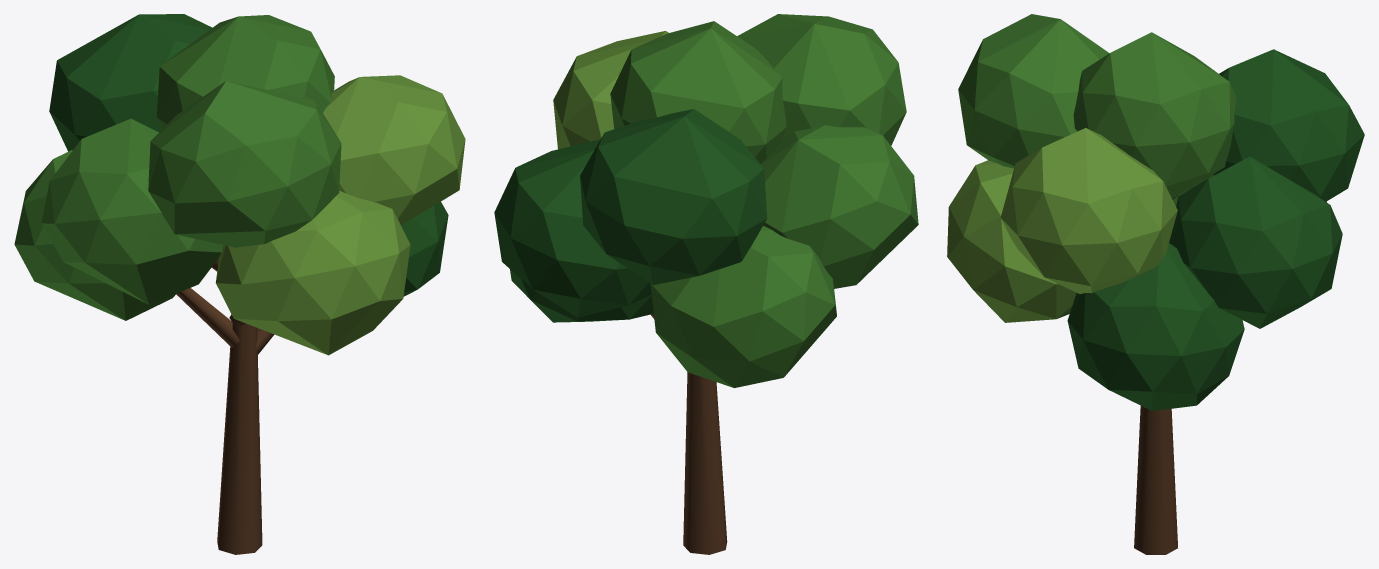
Rendered from angsana_tree.glb.
3 views of the same model, side by side, from view 1: azimuth 30°, elevation 25°; view 2: azimuth 150°, elevation 25°; view 3: azimuth 270°, elevation 25° (orthographic). The views are drawn at different scales.
Parts seen in each view (by area): view 1: leaf.001, leaf.002, leaf, trunk; view 2: leaf.001, leaf, trunk, leaf.002; view 3: leaf, leaf.001, leaf.002, trunk.
Part boxes in pixels (bbox=[...]): leaf.001: bbox=[14, 15, 341, 320]; leaf.002: bbox=[215, 75, 465, 355]; leaf: bbox=[49, 14, 448, 296]; trunk: bbox=[176, 258, 274, 554]; leaf.001: bbox=[610, 14, 918, 387]; leaf: bbox=[494, 109, 767, 322]; trunk: bbox=[650, 314, 727, 554]; leaf.002: bbox=[553, 31, 668, 149]; leaf: bbox=[1067, 49, 1364, 411]; leaf.001: bbox=[958, 14, 1326, 206]; leaf.002: bbox=[947, 128, 1177, 322]; trunk: bbox=[1134, 406, 1177, 554].
Size of the model in its own units: 5.8 by 7.5 by 5.53.
